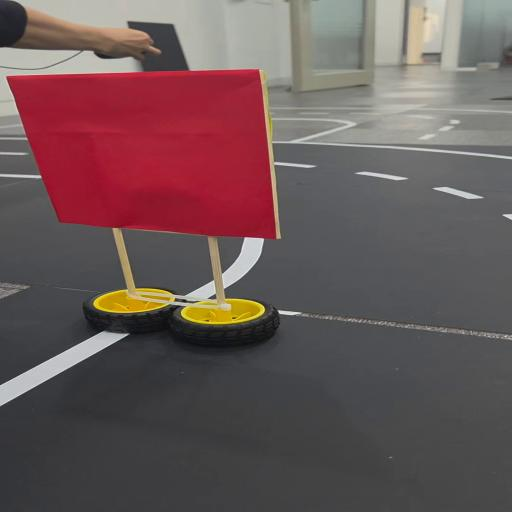Sign_A: (3, 77, 289, 351)
